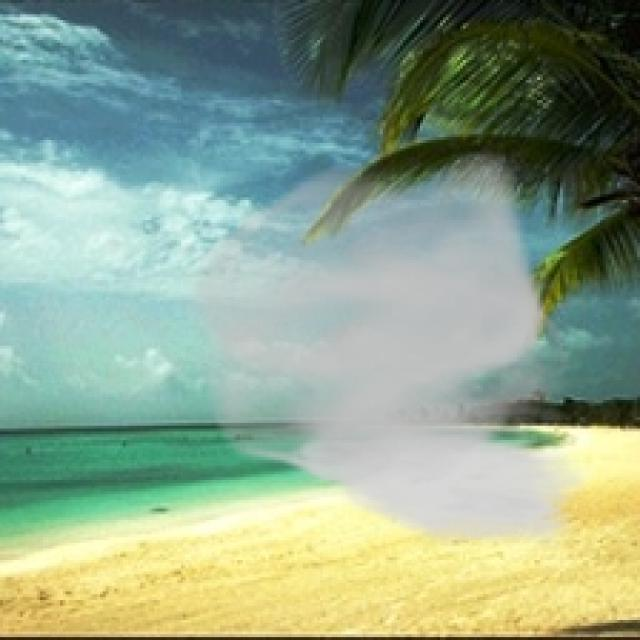smoke: (177, 152, 594, 552)
